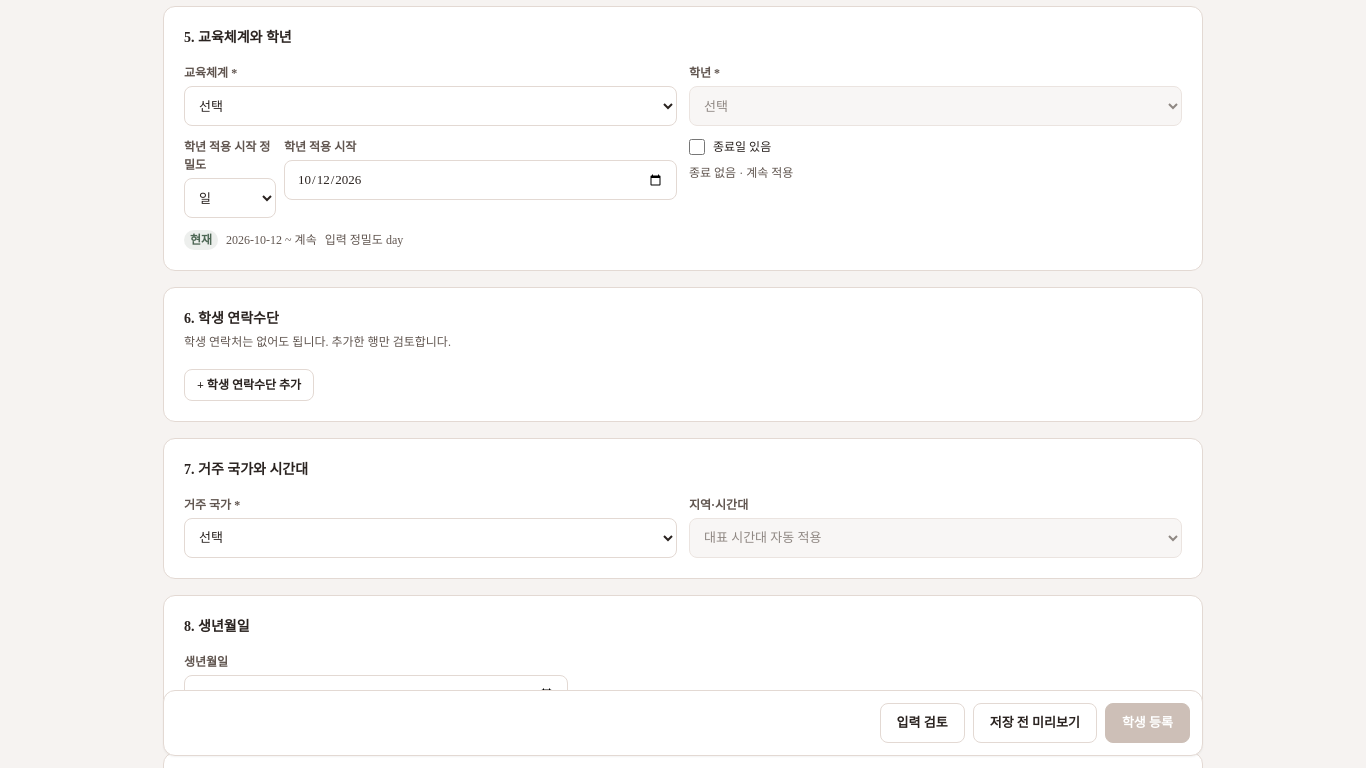
Test: BOC-03a 학생 신규 등록 초안 › 선택 입력인 학생 연락처는 마지막 행도 제거해 다시 0개로 만들 수 있다
(page scrolled)
What coordinates should you click on to do the following:
click the button "+ 학생 연락수단 추가"
I would click on:
 (249, 384)
Its box is [184, 368, 314, 400].
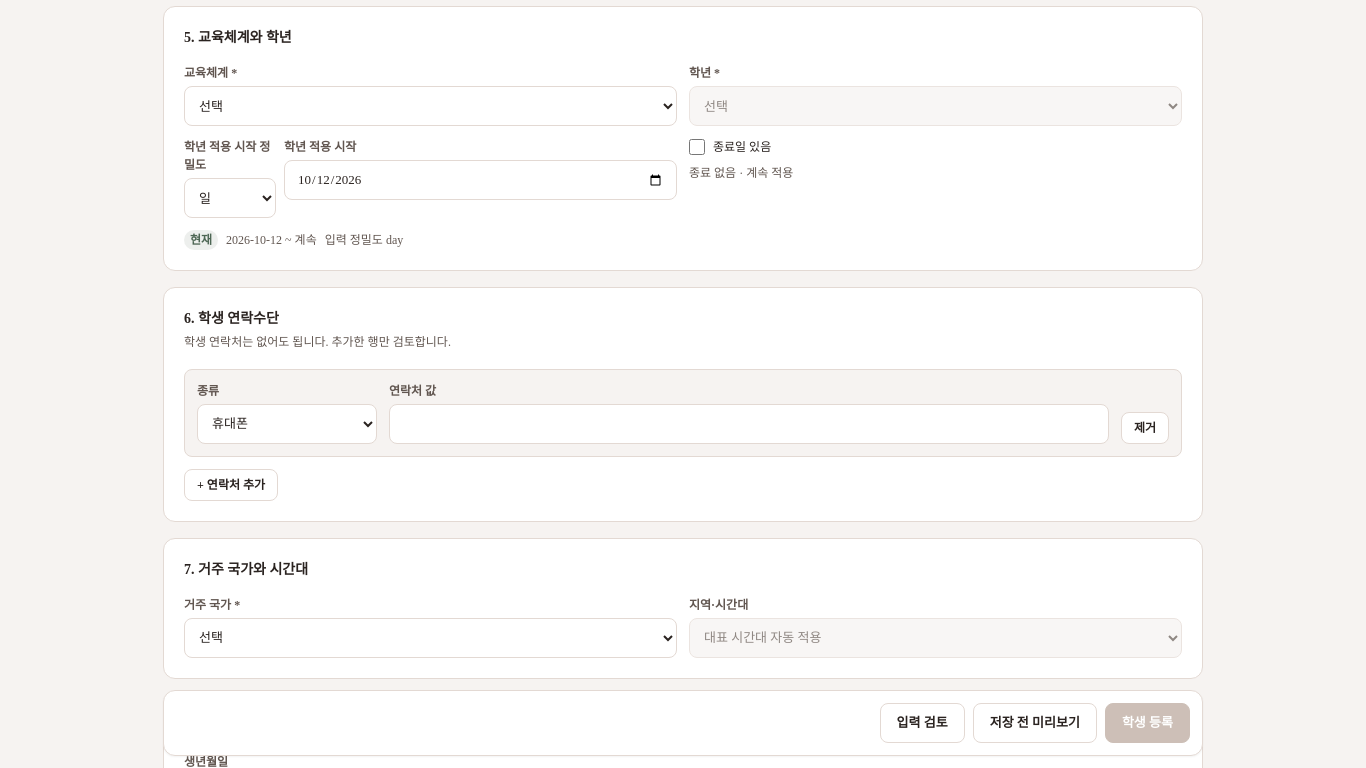
Now the button with aria-label "학생 연락처 1 제거" is enabled
What coordinates should you click on to do the following:
click the button with aria-label "학생 연락처 1 제거"
I would click on:
 (1145, 428)
Its box is [1121, 412, 1169, 444].
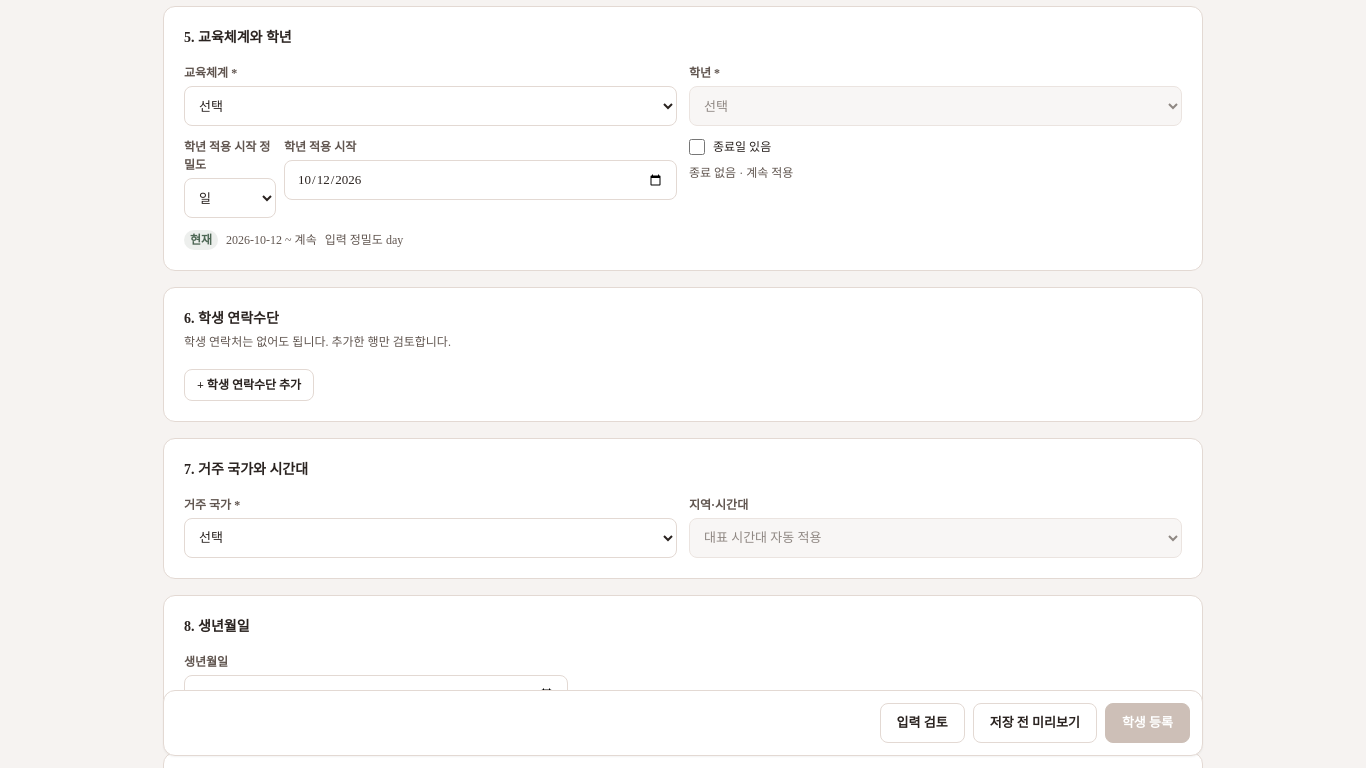
Now the button "+ 학생 연락수단 추가" is shown, box [184, 368, 314, 400]
